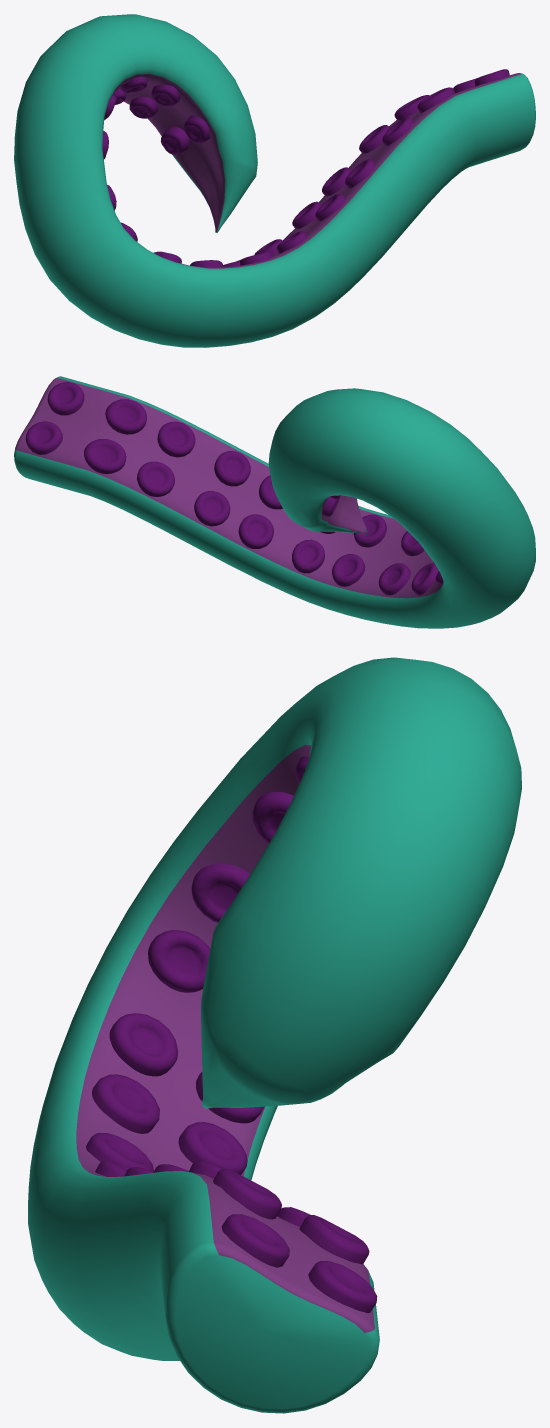
The model's file is Tentaculo De Kraken.fbx.
The picture shows the model from 3 angles, top to bottom: view 1: azimuth 30°, elevation 25°; view 2: azimuth 150°, elevation 25°; view 3: azimuth 270°, elevation 25°; orthographic projection. The views are drawn at different scales.
Parts seen in each view (by area): view 1: Tentaculos Kraken - Low; view 2: Tentaculos Kraken - Low; view 3: Tentaculos Kraken - Low.
Boxes of the visible parts, x1,y1,x2,y2 form: Tentaculos Kraken - Low: (14,14,535,347); Tentaculos Kraken - Low: (14,376,535,628); Tentaculos Kraken - Low: (28,657,521,1413).
Size of the model in its own units: 149 by 83.34 by 65.9.
